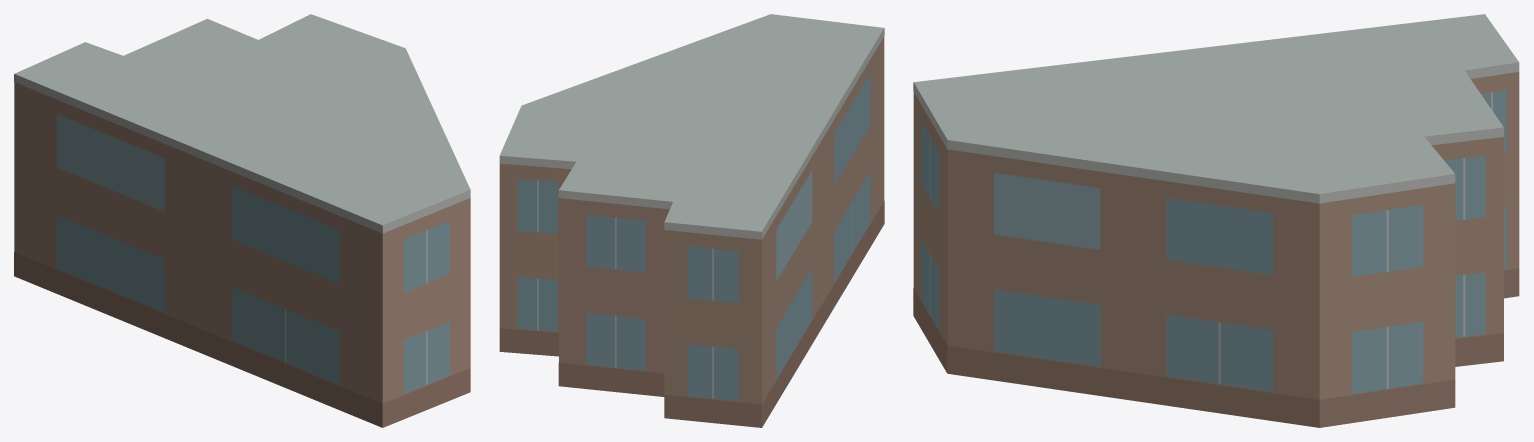
Rendered from survey-upis-32501981.glb.
3 renders of one model, left to right at view 1: azimuth 30°, elevation 25°; view 2: azimuth 150°, elevation 25°; view 3: azimuth 270°, elevation 25°, orthographic. The views are drawn at different scales.
Parts seen in each view (by area): view 1: survey-upis-32501981.tmp; view 2: survey-upis-32501981.tmp; view 3: survey-upis-32501981.tmp.
Part boxes in pixels (x1,y1,x2,y2): survey-upis-32501981.tmp: (14,14,470,427); survey-upis-32501981.tmp: (499,14,884,427); survey-upis-32501981.tmp: (913,14,1519,427).
Size of the model in its own units: 10.1 by 6.1 by 14.34.
